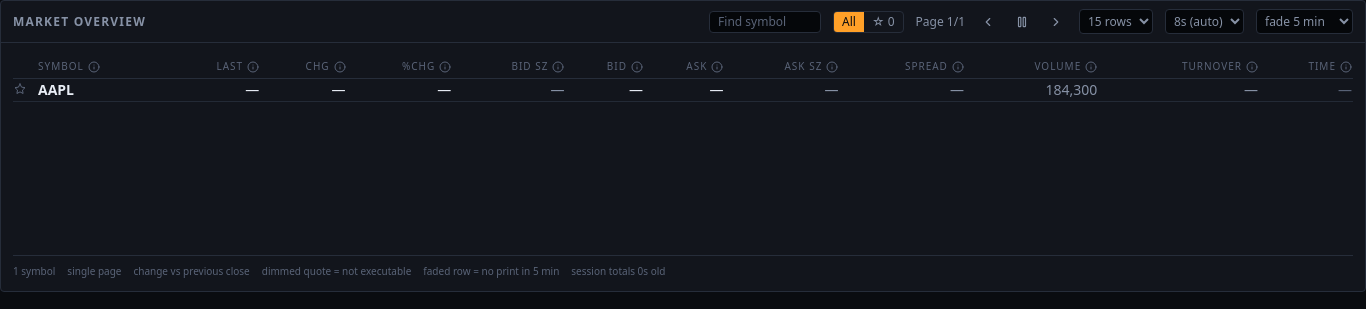
it: paging controls › pauses and resumes on the control
Click the button named "Pause paging". click: (1022, 22)
box: x1=1011 y1=10 x2=1033 y2=32
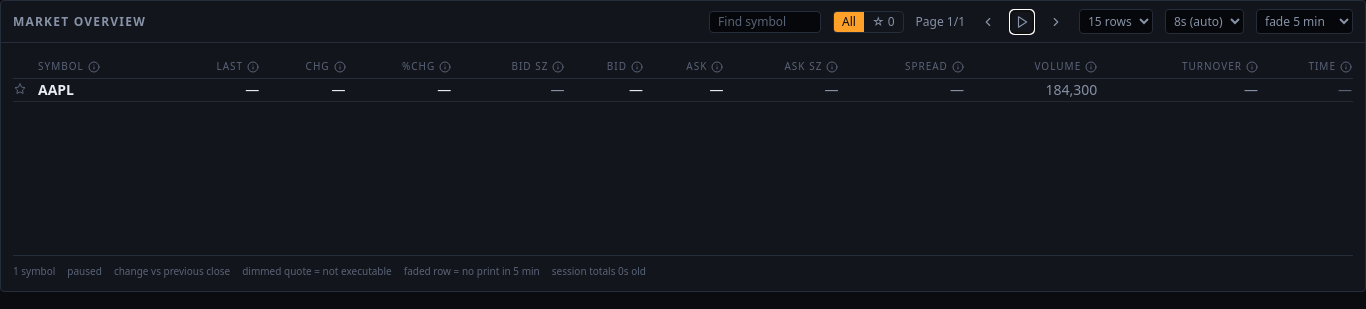
Expected: the button named "Resume paging" is shown, x1=1011 y1=10 x2=1033 y2=32
